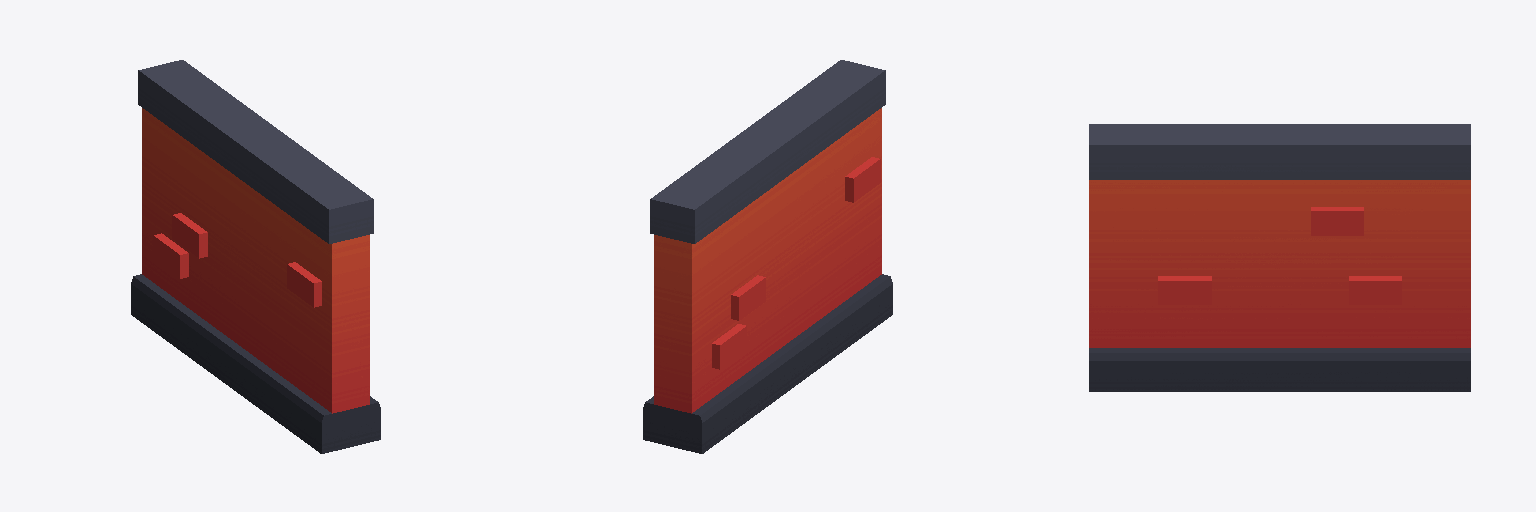
The picture shows the model from 3 angles: view 1: azimuth 30°, elevation 25°; view 2: azimuth 150°, elevation 25°; view 3: azimuth 270°, elevation 25°; orthographic projection.
Visible parts, largest first — view 1: brick-wall.019; view 2: brick-wall.019; view 3: brick-wall.019.
Boxes of the visible parts, <box> form: brick-wall.019: <box>131,60,380,453</box>; brick-wall.019: <box>643,60,892,453</box>; brick-wall.019: <box>1089,124,1470,391</box>.
Bounding box in the file's own units: 0.441 × 1.72 × 2.45.
Materials: 1 (1 with a texture image).